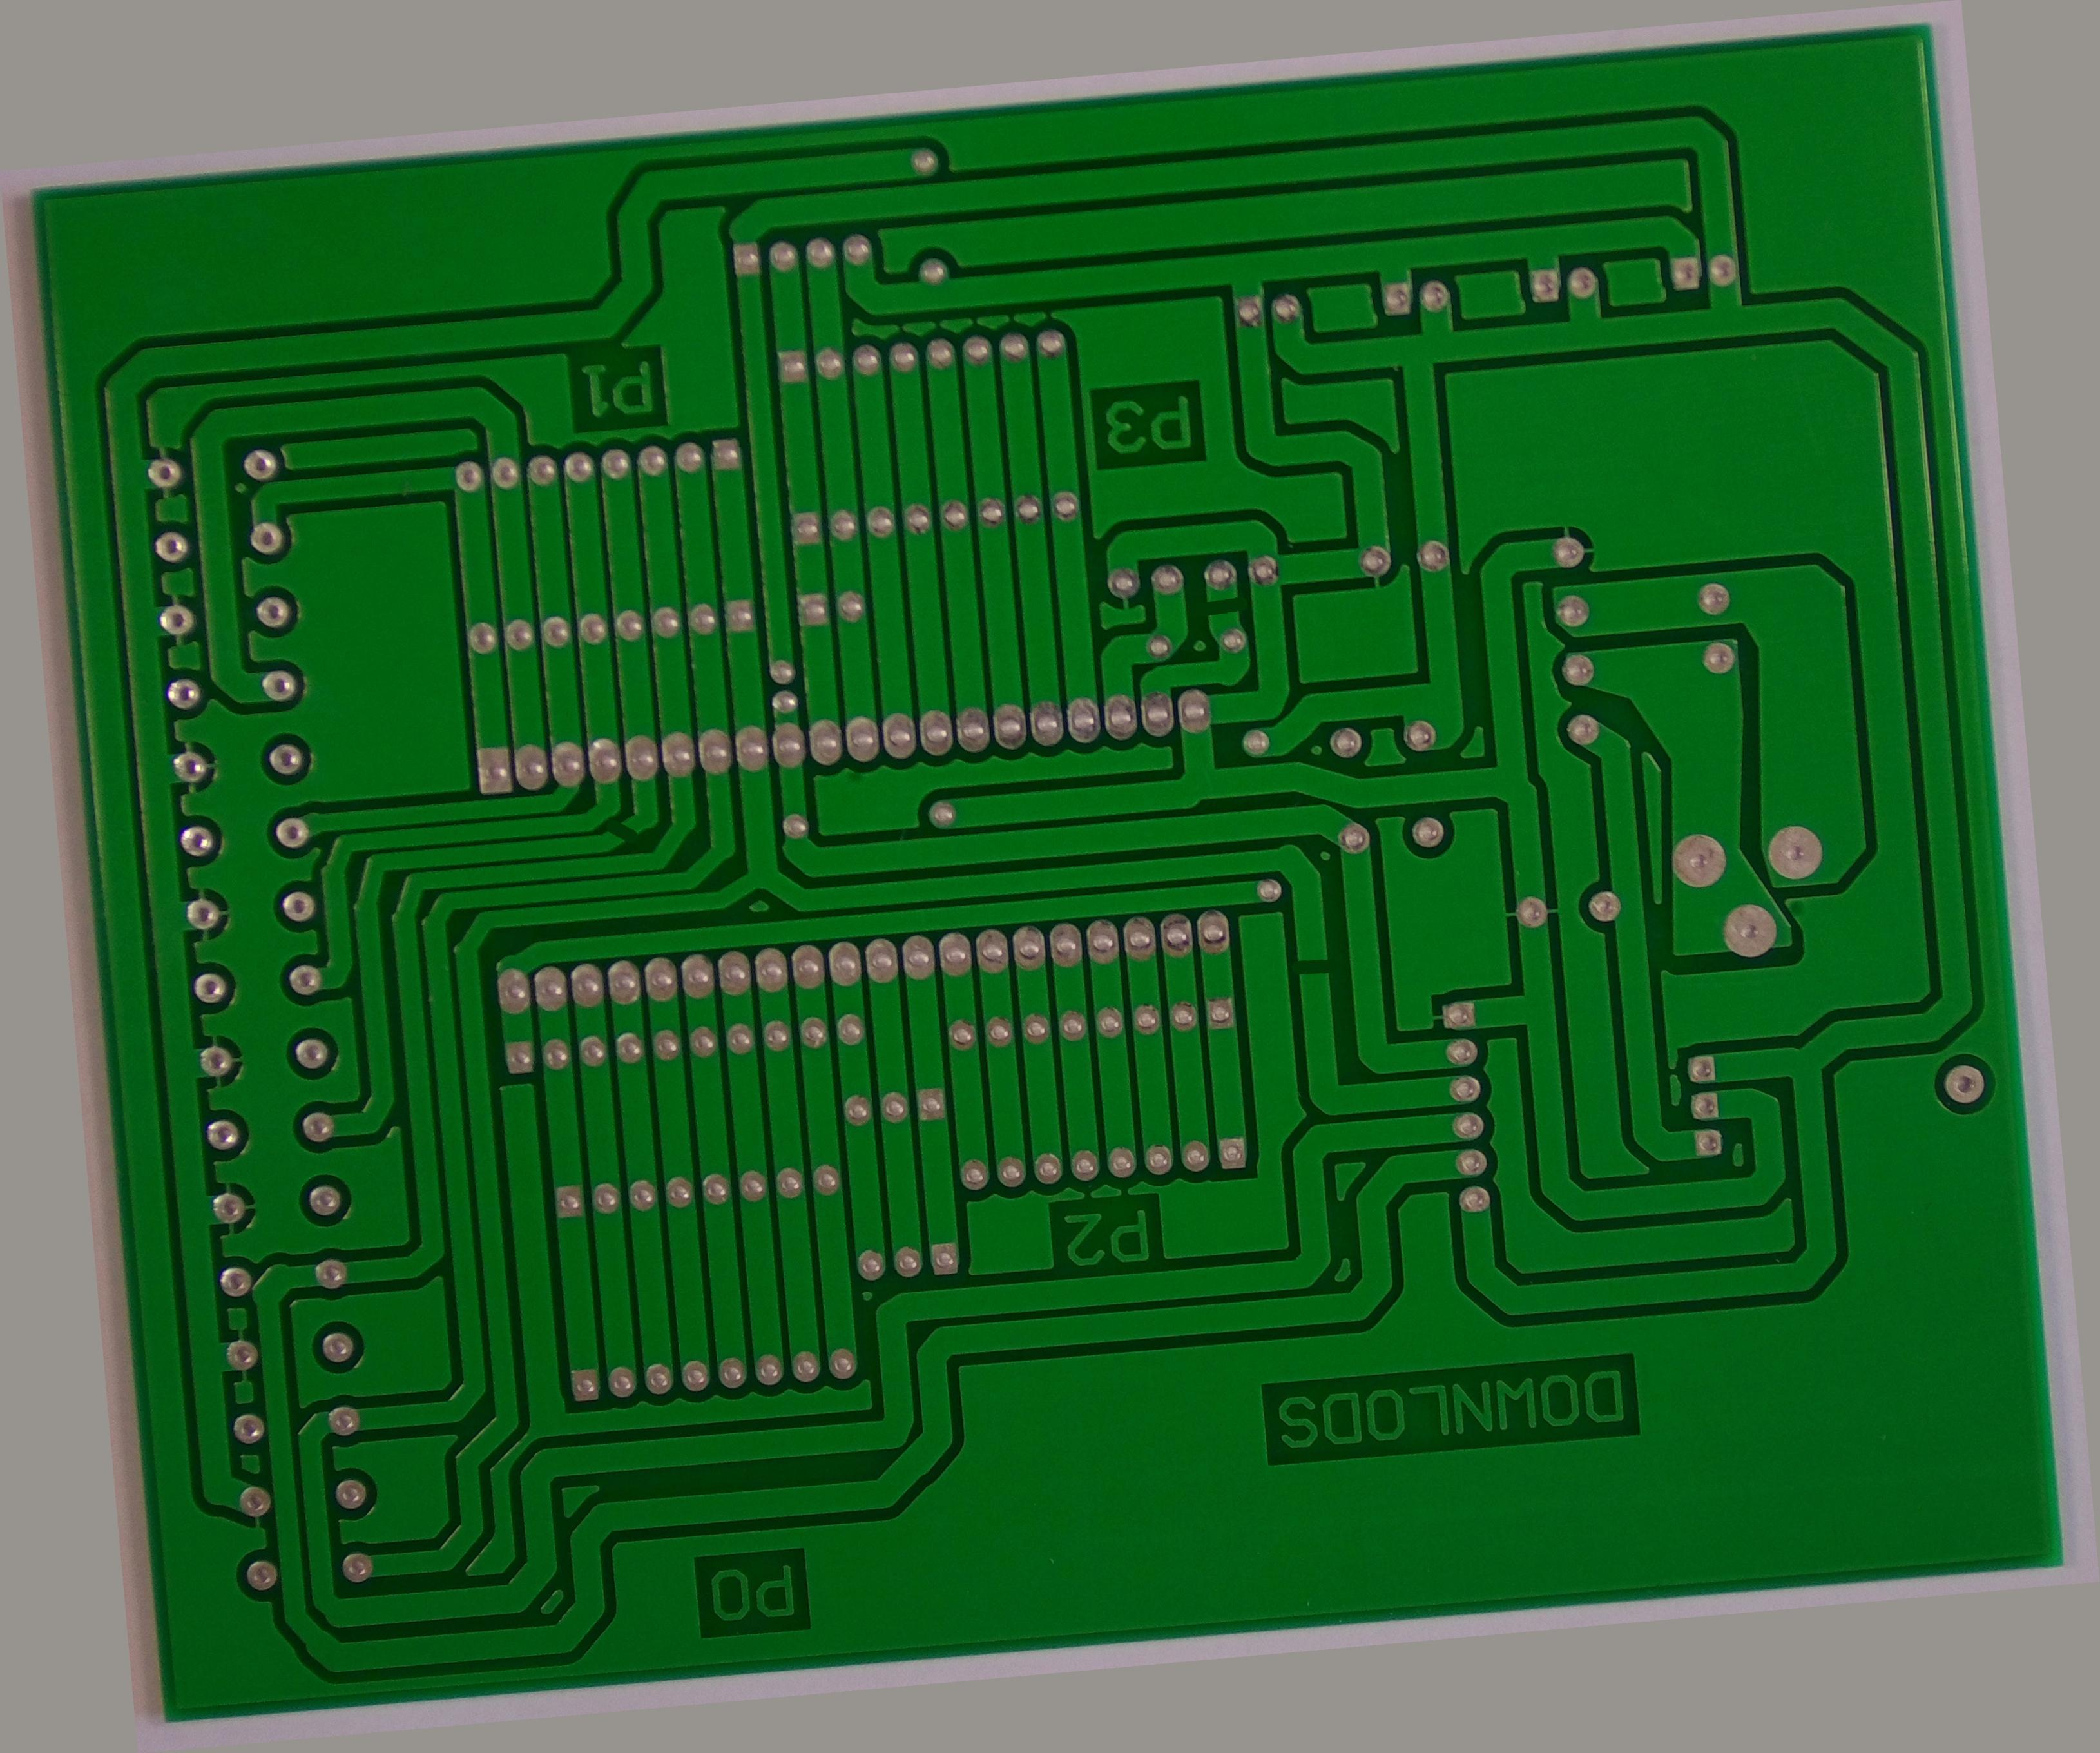open_circuit: (1296, 979, 1348, 1026), (577, 767, 623, 806), (1235, 581, 1282, 610)
